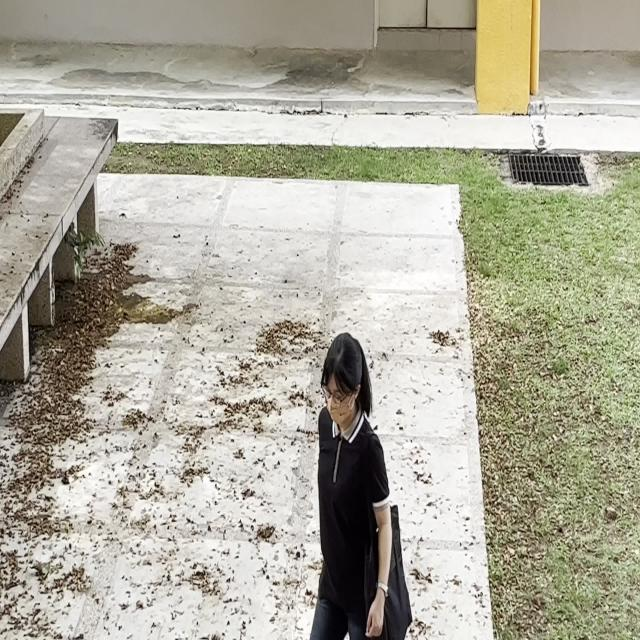Head: (320, 332, 362, 421)
